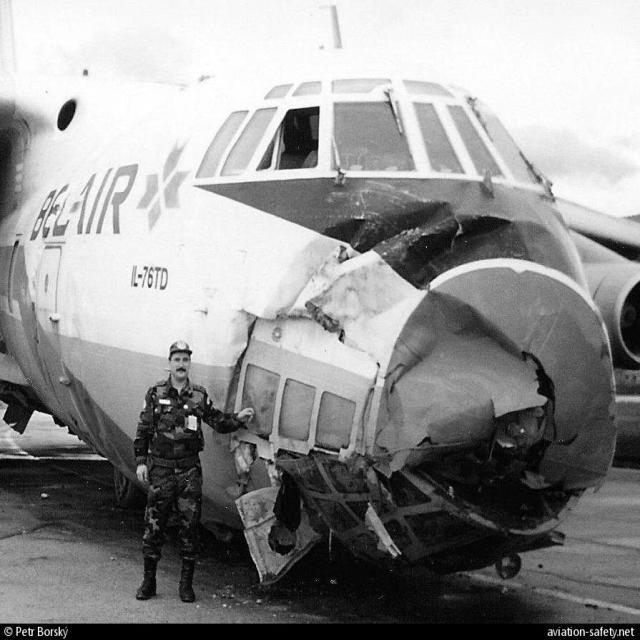dent: (336, 207, 506, 257)
